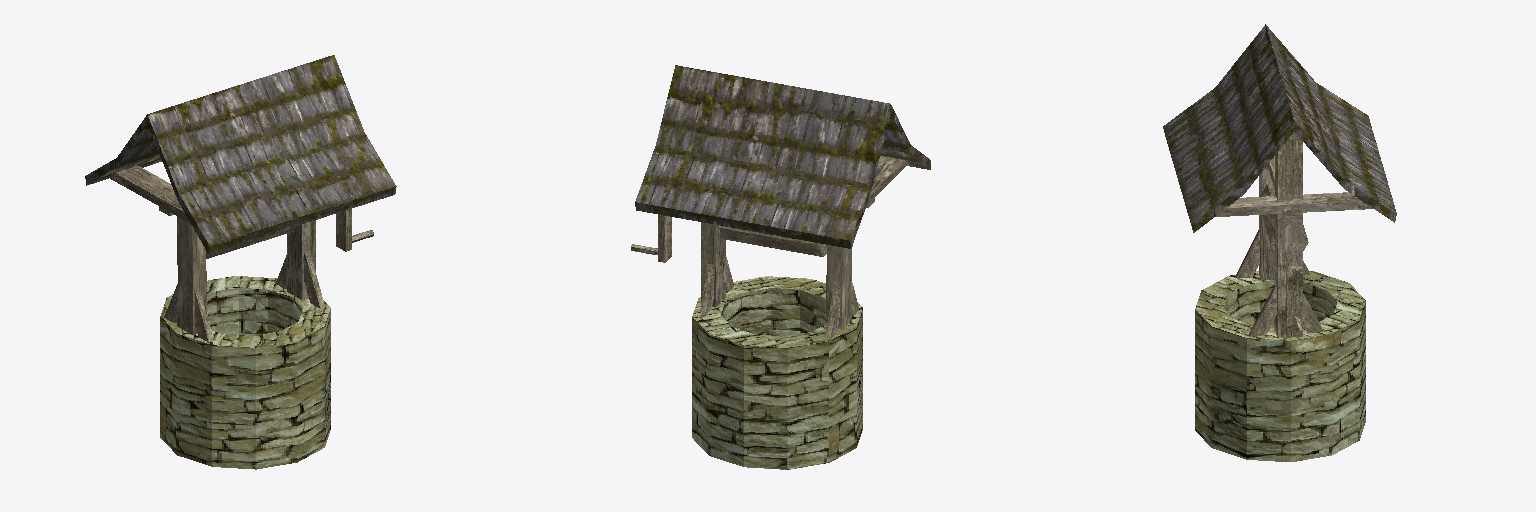
The picture shows the model from 3 angles: view 1: azimuth 30°, elevation 25°; view 2: azimuth 150°, elevation 25°; view 3: azimuth 270°, elevation 25°; orthographic projection.
Parts seen in each view (by area): view 1: Circle; view 2: Circle; view 3: Circle.
Boxes of the visible parts, box(x1,y1,x2,y2) form: Circle: box(85, 55, 396, 469); Circle: box(631, 65, 930, 469); Circle: box(1163, 24, 1396, 461).
Bounding box in the file's own units: 3.41 × 4.51 × 2.73.
1 materials, 1 textured.